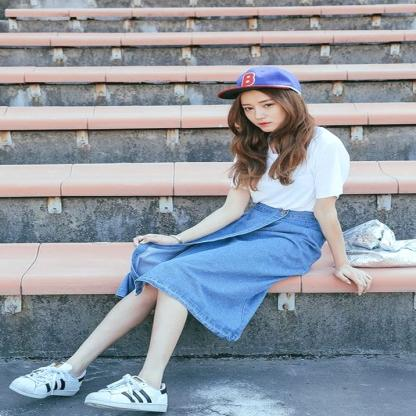dress: (120, 199, 325, 341), (225, 126, 347, 214)
